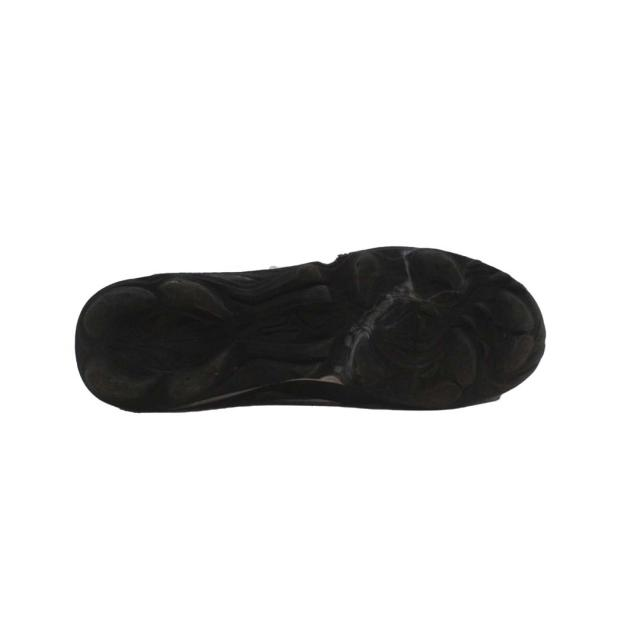outersole: (75, 245, 546, 412)
